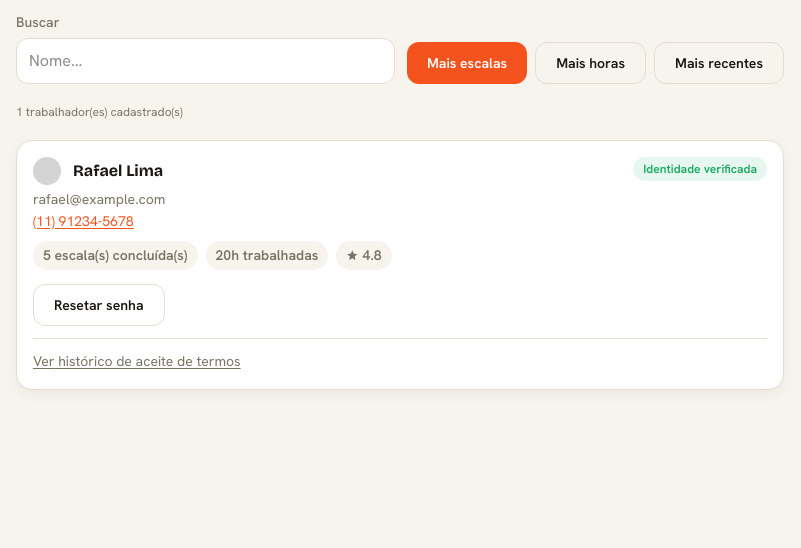
Test: AdminTrabalhadoresPage › mostra o histórico de aceite de termos ao expandir
Check: the text "Rafael Lima" is shown, box [73,159,163,183]
Check: the text "v1.1 ·" is not shown
Click the button "Ver histórico de aceite de termos". click: click(137, 361)
box: [33,351,241,371]
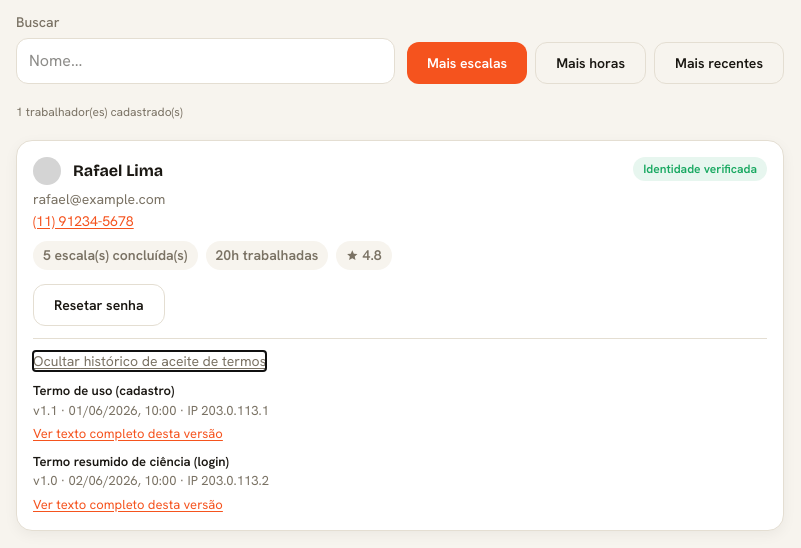
Check: the text "v1.1 · 01/06/2026, 10:00 · IP 203.0.113.1" is shown, box [33,402,269,418]
Check: the text "v1.0 · 02/06/2026, 10:00 · IP 203.0.113.2" is shown, box [33,472,269,489]
